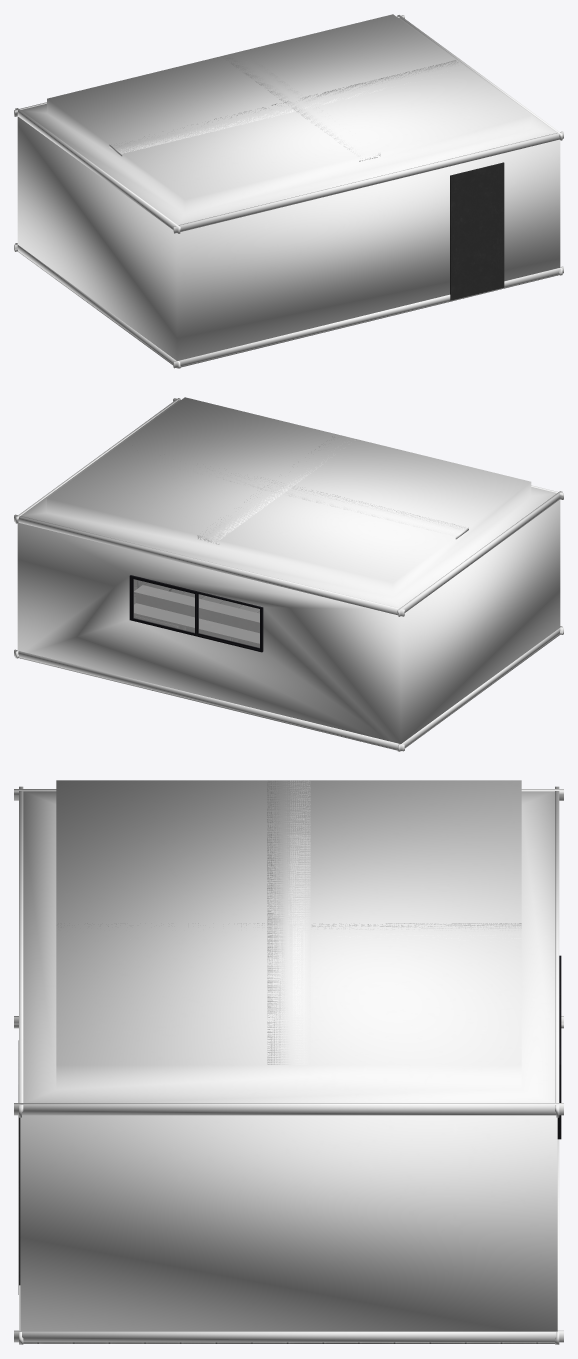
The model's file is Chem Lab.fbx.
3 views of the same model, one above another, from view 1: azimuth 30°, elevation 25°; view 2: azimuth 150°, elevation 25°; view 3: azimuth 270°, elevation 25° (orthographic). The views are drawn at different scales.
Visible parts, largest first — view 1: Lab wall, Door, Tiles; view 2: Lab wall, Window Salamin, Table, Window, Tiles; view 3: Lab wall, Tiles.
Boxes of the visible parts, x1,y1,x2,y2 form: Lab wall: [14, 14, 563, 368]; Door: [450, 162, 504, 300]; Tiles: [17, 251, 558, 368]; Lab wall: [14, 397, 563, 751]; Window Salamin: [133, 579, 259, 647]; Table: [134, 585, 259, 647]; Window: [129, 575, 263, 652]; Tiles: [19, 579, 560, 751]; Lab wall: [14, 780, 563, 1344]; Tiles: [23, 1342, 554, 1343].
Size of the model in its own units: 975 by 374 by 707.
